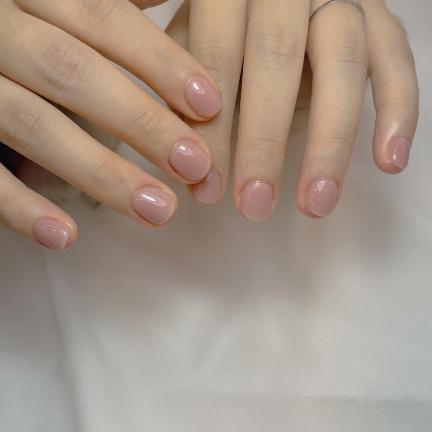Nail: (168, 140, 211, 181), (132, 185, 176, 225), (184, 75, 223, 117), (239, 180, 274, 222), (33, 217, 69, 251), (306, 178, 337, 217), (190, 169, 222, 205), (388, 137, 410, 169)
